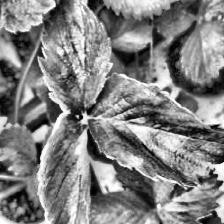Powdery Mildew Leaf: (85, 72, 224, 188), (37, 111, 91, 224)
